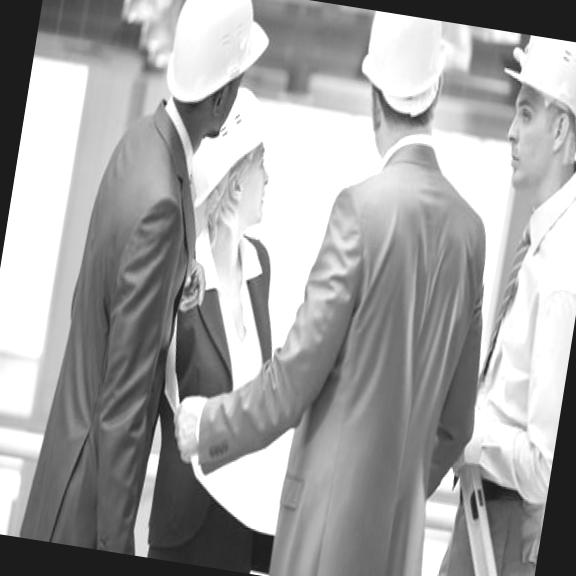no_safety_vest: (268, 146, 489, 576), (39, 100, 225, 516), (453, 180, 576, 518)
